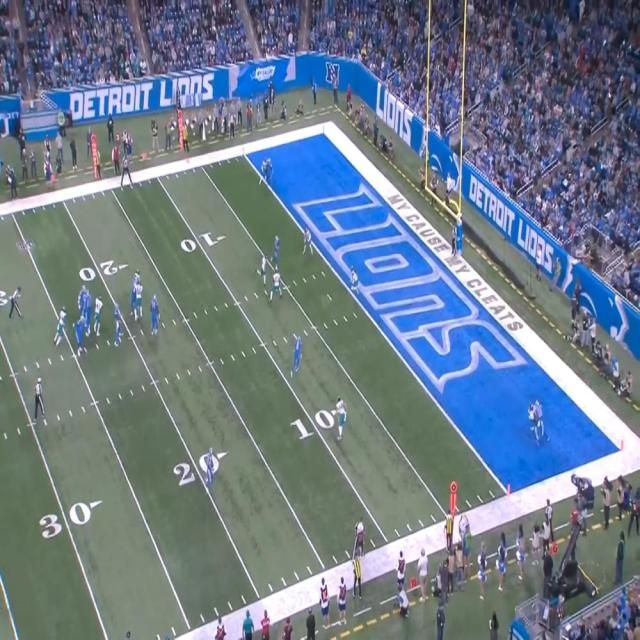db: (528, 402, 536, 441), (260, 255, 269, 286), (305, 228, 315, 252), (349, 271, 359, 290)
lb: (336, 397, 346, 429), (273, 270, 281, 302), (58, 306, 67, 334)
skill: (536, 400, 545, 445), (208, 449, 215, 491), (294, 335, 301, 377), (274, 235, 280, 267), (269, 159, 276, 185)
